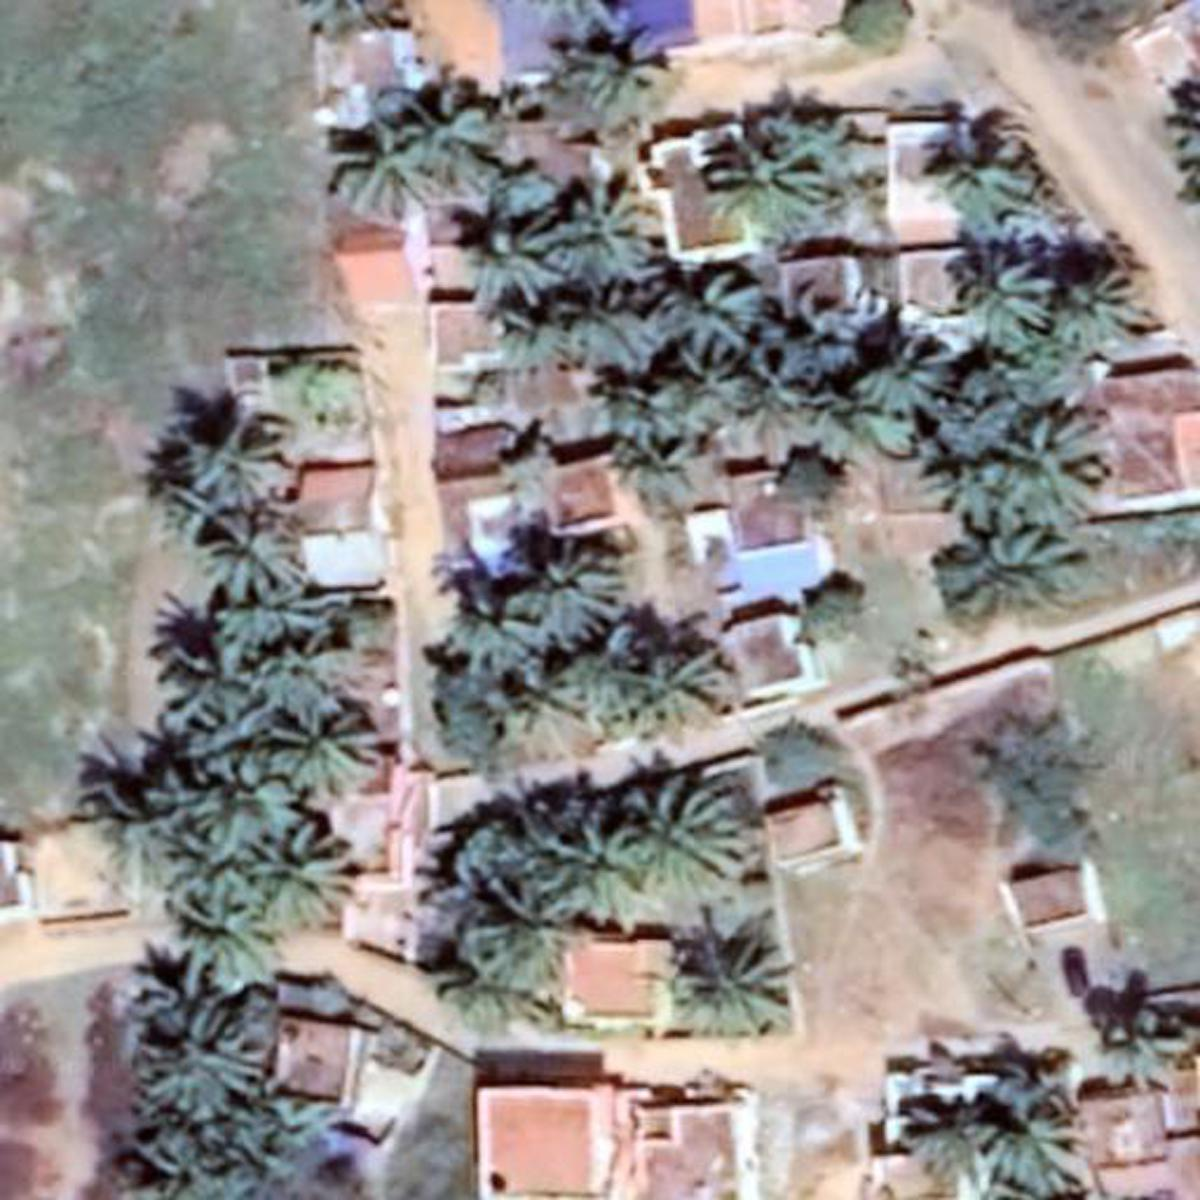coconut: (510, 795, 667, 932), (663, 904, 803, 1031), (932, 513, 1099, 618), (904, 126, 1054, 241), (700, 131, 855, 234), (133, 1010, 267, 1129), (532, 168, 677, 276), (986, 400, 1125, 503), (149, 768, 311, 855), (396, 73, 515, 189), (201, 487, 321, 602), (616, 775, 749, 878), (321, 121, 464, 215), (168, 405, 300, 508), (257, 691, 389, 787), (248, 820, 370, 923), (1051, 251, 1167, 358), (452, 210, 584, 302), (588, 632, 721, 721), (447, 571, 564, 670), (960, 1110, 1103, 1190), (166, 860, 276, 963), (522, 546, 638, 638), (555, 37, 684, 121), (719, 346, 843, 427), (597, 360, 714, 445), (116, 1129, 251, 1200), (953, 257, 1054, 351), (127, 960, 243, 1038), (656, 267, 771, 344), (604, 412, 700, 499), (482, 292, 571, 373), (864, 337, 956, 414)
